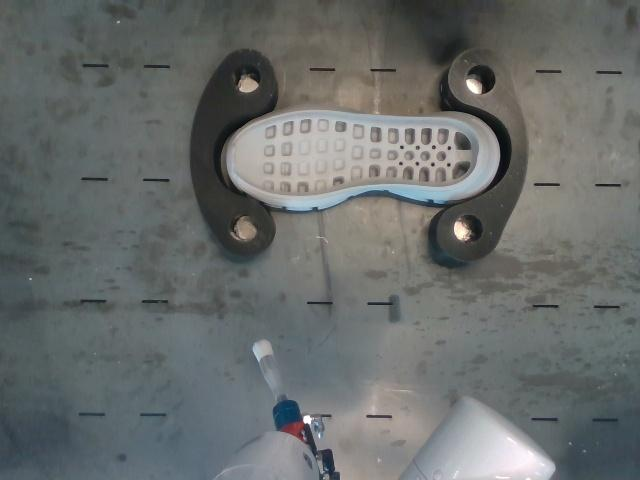shoes: (233, 110, 479, 196)
